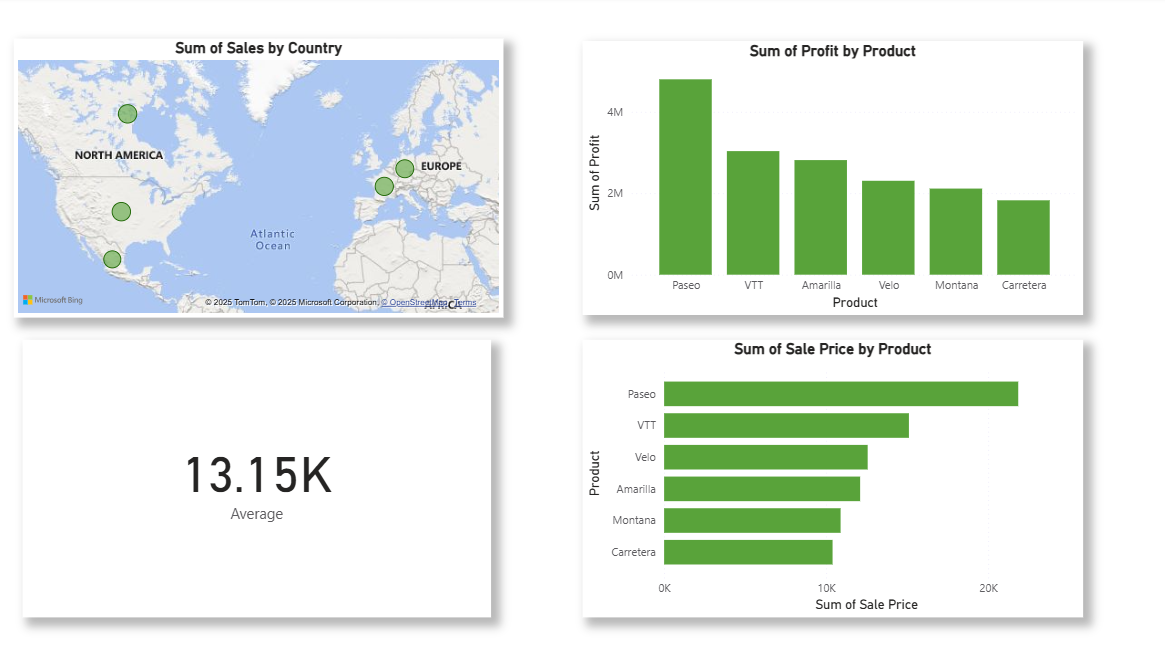

The page's visual inventory and layout, read from the dashboard file:
{"tool":"powerbi","page":{"name":"Page 2","canvas":[1280,720],"ordinal":1},"visuals":[{"type":"map","fields":{"Category":["Table_1.Country"],"Size":["Sum(Table_1. Sales)"]},"box":[15.6,46.7,537.9,306.4],"z":0},{"type":"columnChart","fields":{"Category":["Table_1.Product"],"Y":["Sum(Table_1.Profit)"]},"box":[640,49.6,549.5,300.5],"z":1000},{"type":"card","fields":{"Values":["Table_1.Average"]},"box":[24.3,377.4,514.5,304.4],"z":2000},{"type":"clusteredBarChart","fields":{"Category":["Table_1.Product"],"Y":["Sum(Table_1.Sale Price)"]},"box":[640,377.4,549.5,304.4],"z":3000}]}

Visuals, with their boxes in screenshot pixels (x1, y1, x2, y2), scaled from the page's 1280x720 canvas onto the 1165x652 screenshot:
map - Table_1.Country x Sum(Table_1. Sales): [14, 42, 504, 320]
columnChart - Table_1.Product x Sum(Table_1.Profit): [582, 45, 1083, 317]
card - Table_1.Average: [22, 342, 490, 617]
clusteredBarChart - Table_1.Product x Sum(Table_1.Sale Price): [582, 342, 1083, 617]
